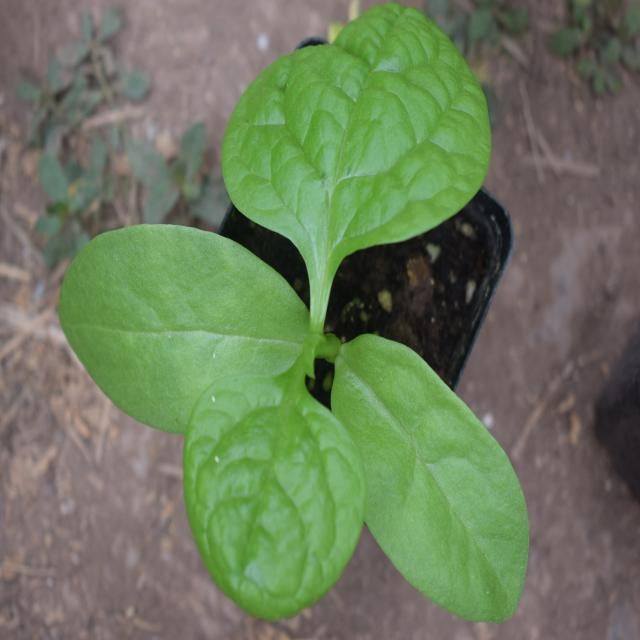Ceylon spinach: (67, 30, 536, 604)
